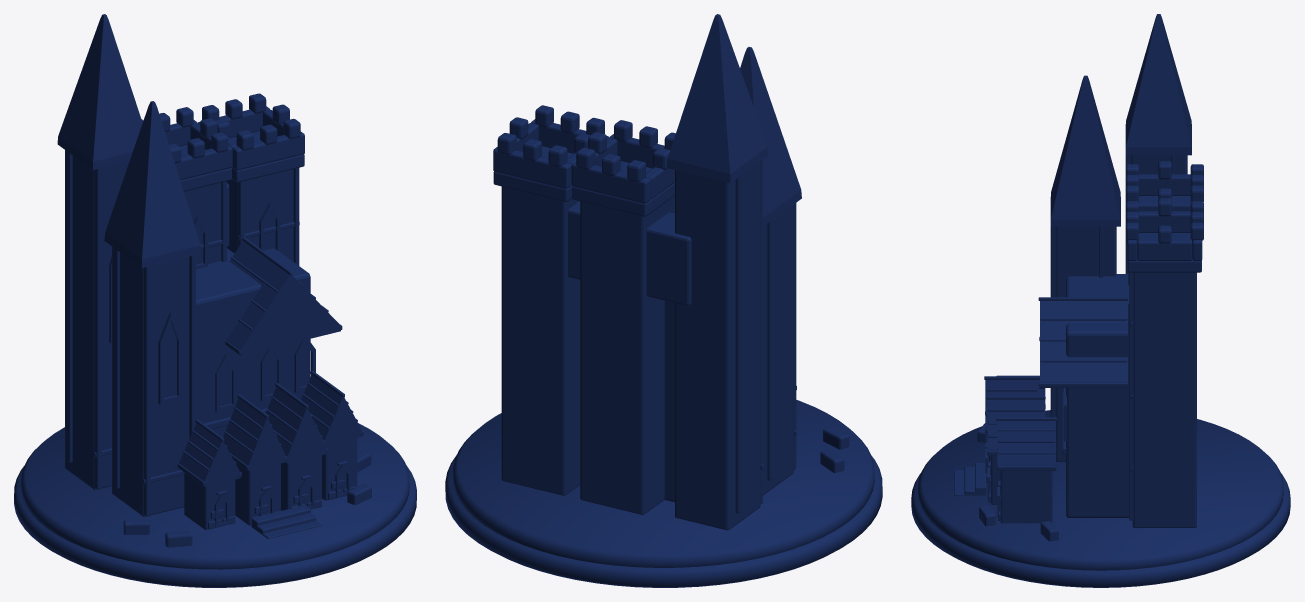
File: metropolis-blue.fbx
3 views of the same model, side by side, from view 1: azimuth 30°, elevation 25°; view 2: azimuth 150°, elevation 25°; view 3: azimuth 270°, elevation 25° (orthographic). The views are drawn at different scales.
Parts seen in each view (by area): view 1: Metropolis_Moulded_Sculpt; view 2: Metropolis_Moulded_Sculpt; view 3: Metropolis_Moulded_Sculpt.
Part boxes in pixels (box(x1,y1,x2,y2)): Metropolis_Moulded_Sculpt: box(14, 14, 416, 587); Metropolis_Moulded_Sculpt: box(445, 14, 882, 587); Metropolis_Moulded_Sculpt: box(911, 14, 1290, 587).
Bounding box in the file's own units: 0.018 × 0.024 × 0.018.
